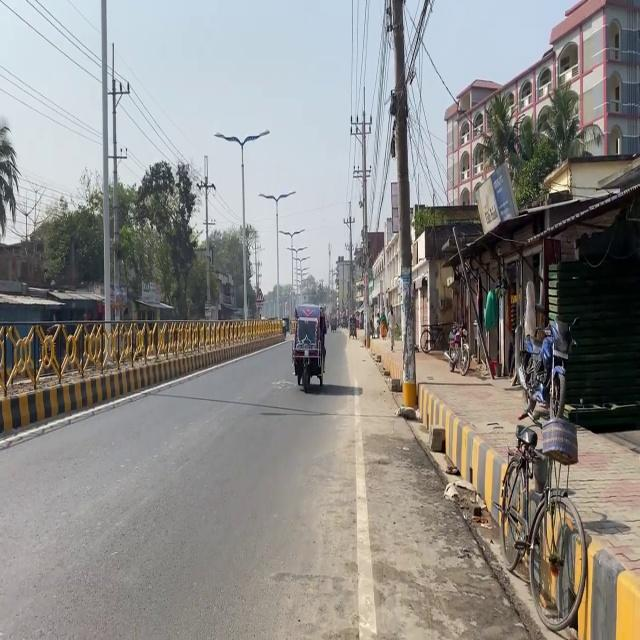Construction-barrier: (454, 413, 600, 640)
Fallen-tree: (517, 315, 580, 423), (445, 321, 471, 375)
Light-pole: (387, 0, 418, 410), (99, 0, 111, 331)
Pole: (2, 294, 238, 460)
Pothole: (361, 332, 639, 638)
Traffic-cone: (291, 303, 327, 393)
